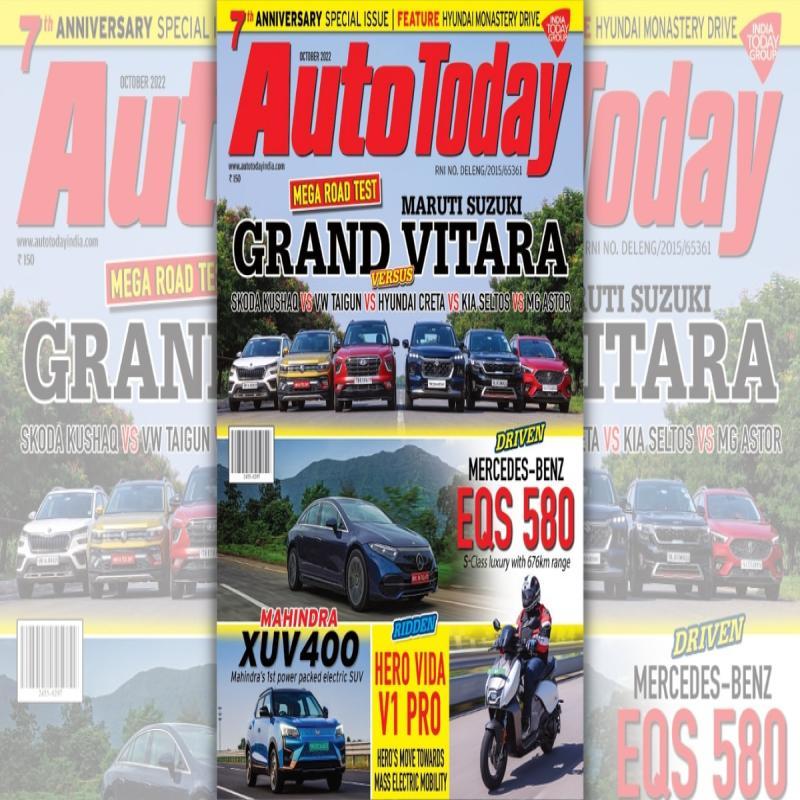car: (284, 483, 446, 606)
